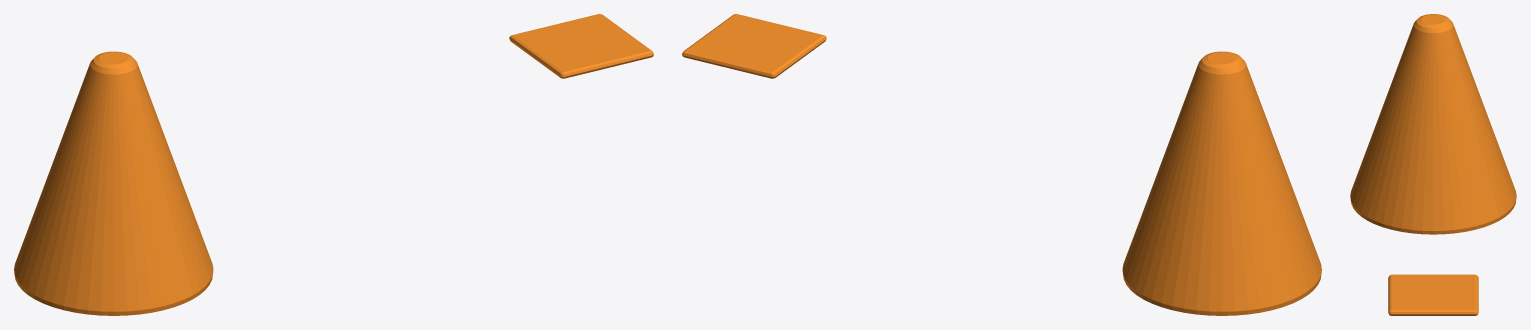
File: cono.glb
3 views of the same model, side by side, from view 1: azimuth 30°, elevation 25°; view 2: azimuth 150°, elevation 25°; view 3: azimuth 270°, elevation 25° (orthographic). The views are drawn at different scales.
Parts seen in each view (by area): view 1: Cono, Cono_Base; view 2: Cono, Cono_Base; view 3: Cono, Cono_Base.
Part boxes in pixels (x1,y1,x2,y2): Cono: (14, 51, 213, 315); Cono_Base: (509, 14, 653, 78); Cono: (1122, 51, 1321, 315); Cono_Base: (682, 14, 826, 78); Cono: (1350, 14, 1516, 234); Cono_Base: (1388, 274, 1478, 315).
Size of the model in its own units: 0.5781 by 0.2 by 0.1662.
